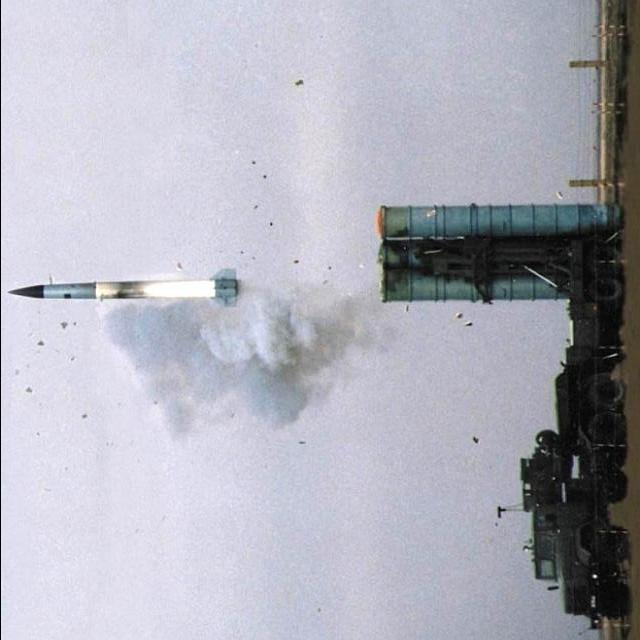missile: (2, 265, 246, 310)
